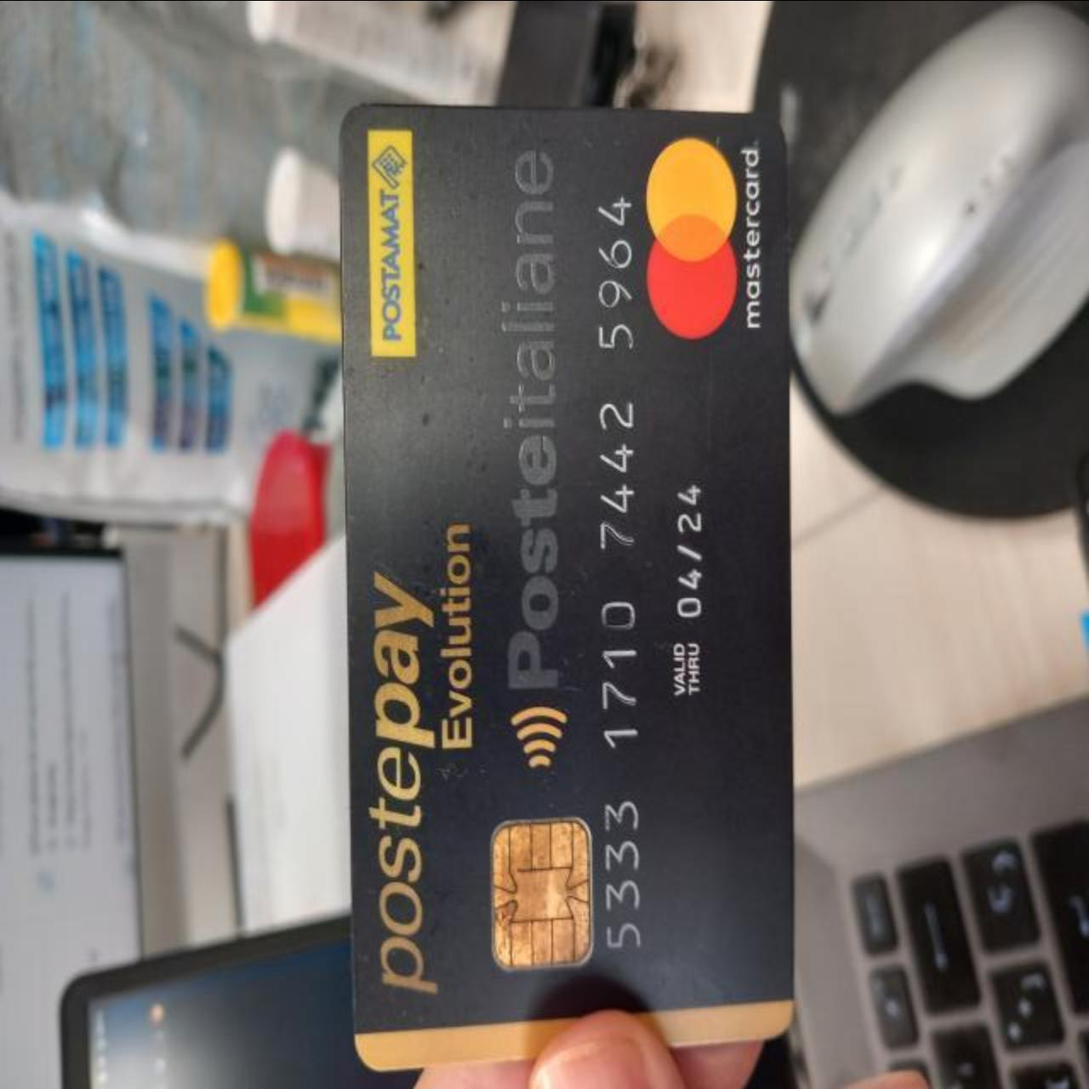credit_card: (347, 102, 807, 1072)
